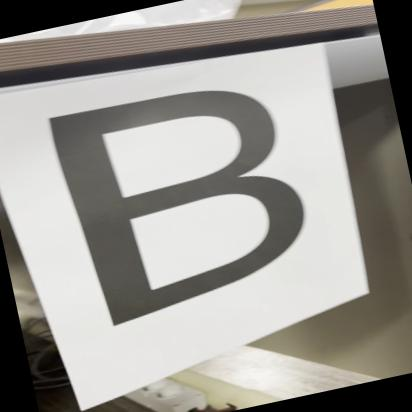seat: (10, 54, 334, 344)
